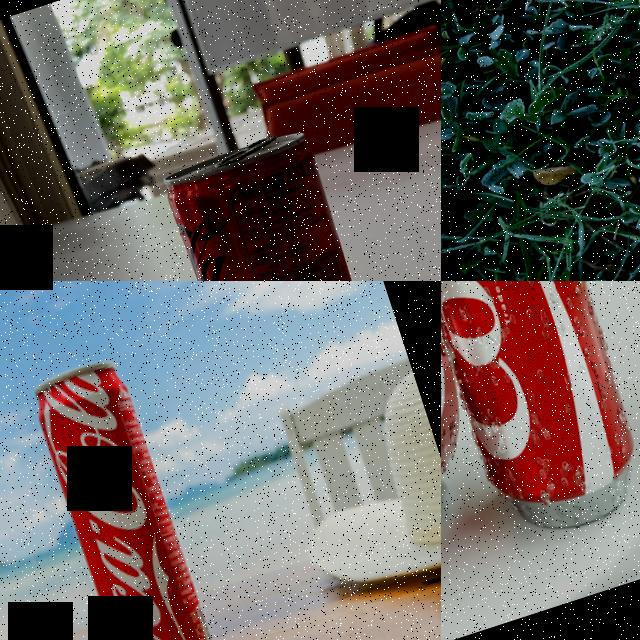can: (26, 353, 238, 640), (441, 281, 640, 566), (158, 123, 398, 281), (441, 281, 510, 631)
